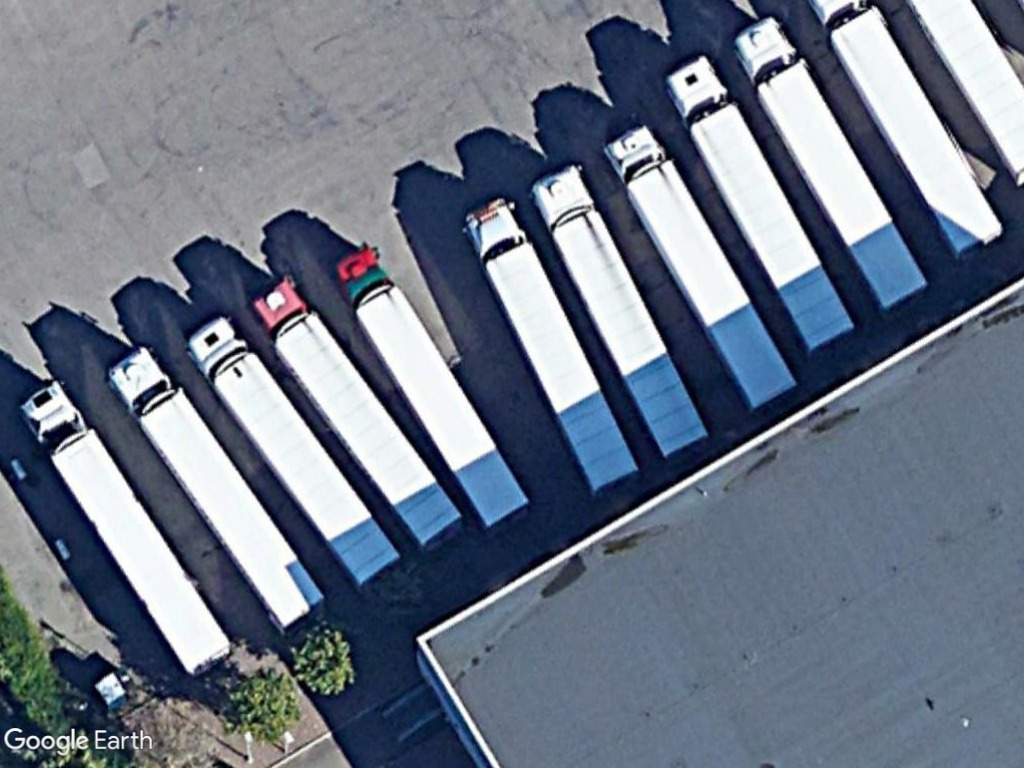longvehicle: (102, 336, 337, 637), (12, 374, 242, 680), (180, 310, 405, 590), (251, 272, 467, 555), (663, 49, 862, 355), (734, 11, 933, 316), (329, 239, 534, 533), (530, 156, 718, 475), (604, 119, 802, 416), (458, 192, 646, 501)
